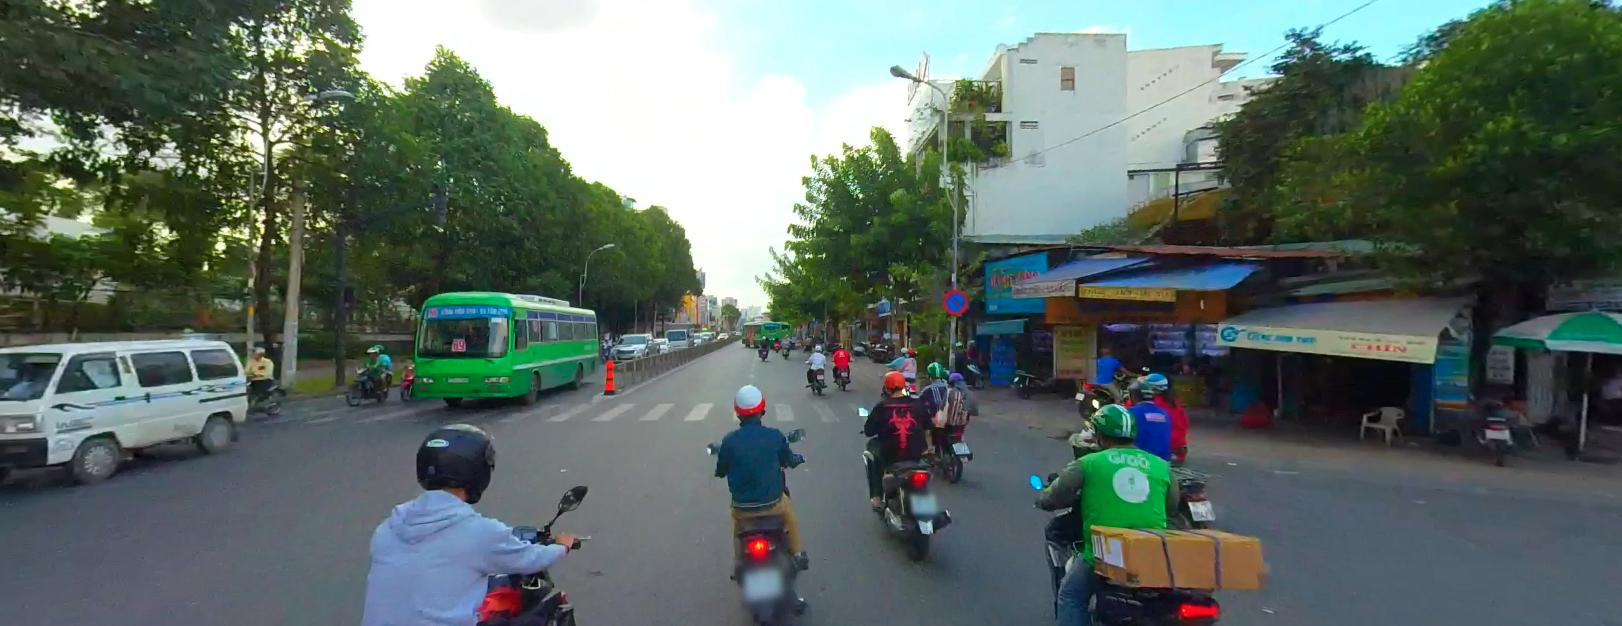Cam dung va do: (942, 287, 967, 312)
